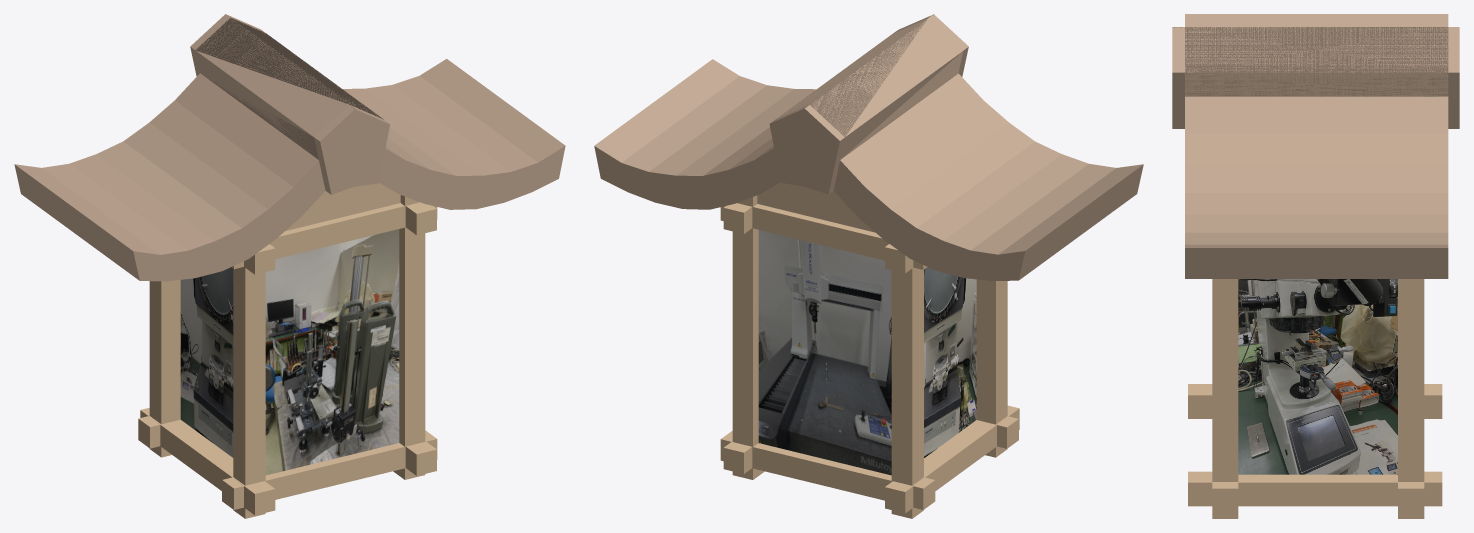
The model's file is 生産_精密測定室.glb.
3 views of the same model, side by side, from view 1: azimuth 30°, elevation 25°; view 2: azimuth 150°, elevation 25°; view 3: azimuth 270°, elevation 25° (orthographic). The views are drawn at different scales.
Visible parts, largest first — view 1: 平面, 立方体, 平面.001, 平面.002; view 2: 平面, 立方体, 平面.001, 平面.002; view 3: 平面, 立方体, 平面.001.
Boxes of the visible parts, x1,y1,x2,y2 form: 平面: [14, 14, 565, 281]; 立方体: [180, 229, 399, 475]; 平面.001: [138, 195, 437, 518]; 平面.002: [286, 182, 400, 230]; 平面: [594, 14, 1143, 280]; 立方体: [758, 230, 976, 475]; 平面.001: [720, 195, 1019, 518]; 平面.002: [757, 182, 875, 232]; 平面: [1172, 14, 1459, 278]; 立方体: [1238, 279, 1397, 474]; 平面.001: [1188, 279, 1442, 518].
Bounding box in the file's own units: 7.86 × 6.96 × 4.08.
Materials: 8 (4 with a texture image).
